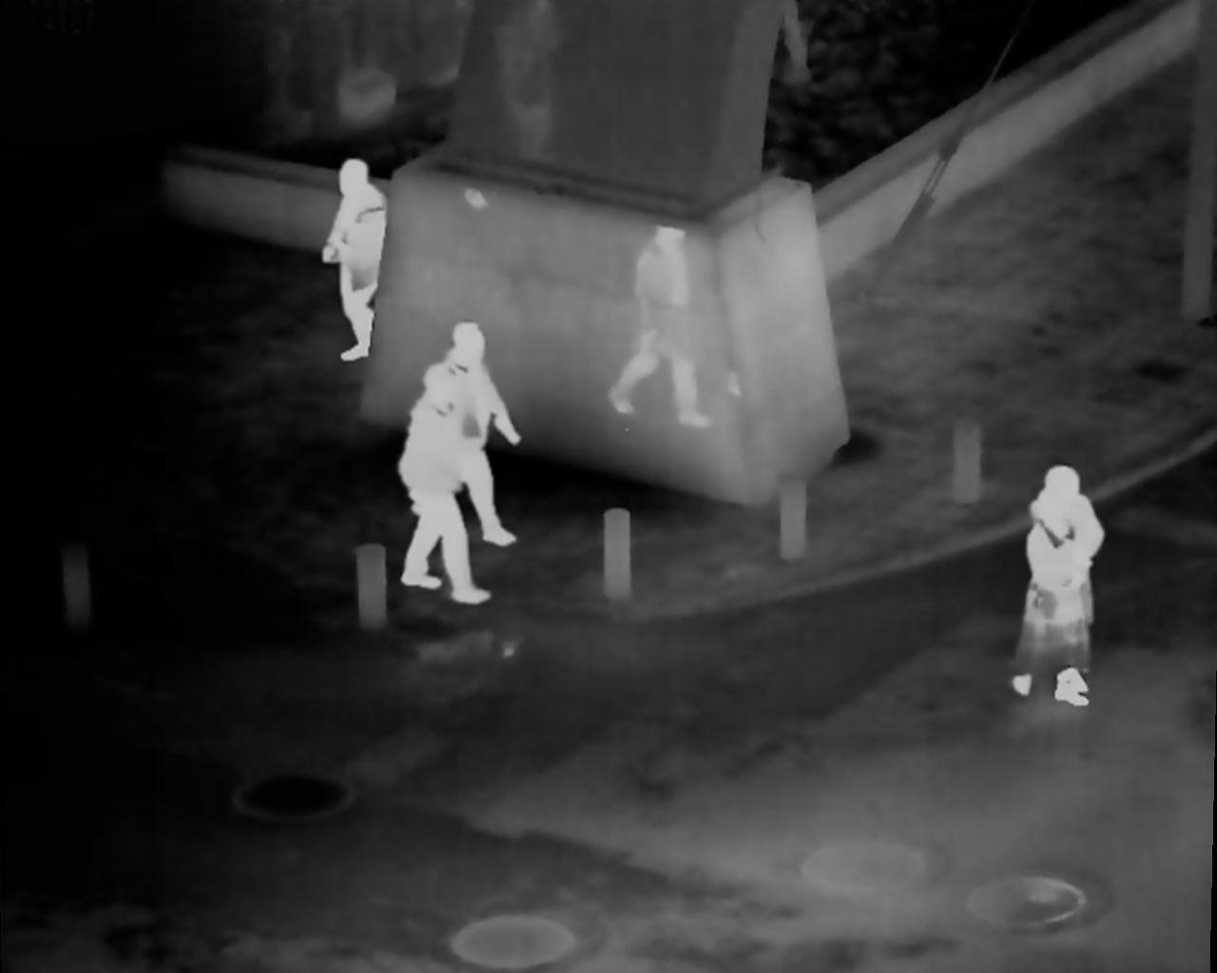person: (396, 364, 491, 601), (1010, 491, 1091, 707), (1022, 460, 1105, 658), (450, 325, 522, 550), (323, 159, 393, 363)
